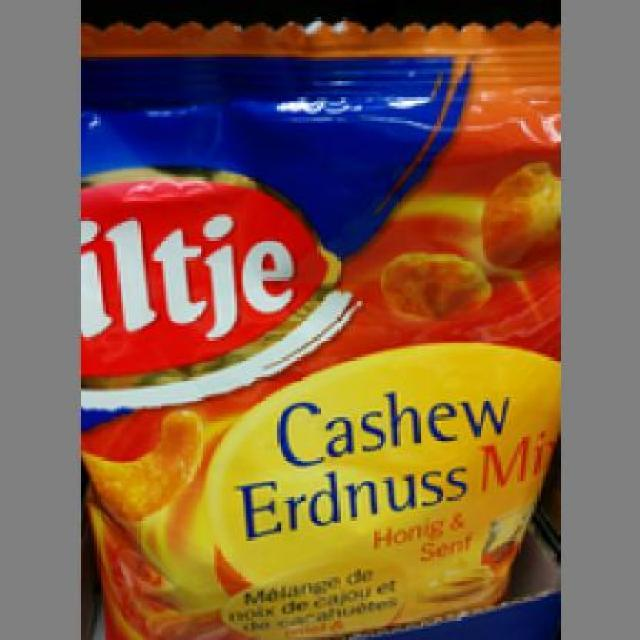Nuts: (77, 11, 554, 634)
